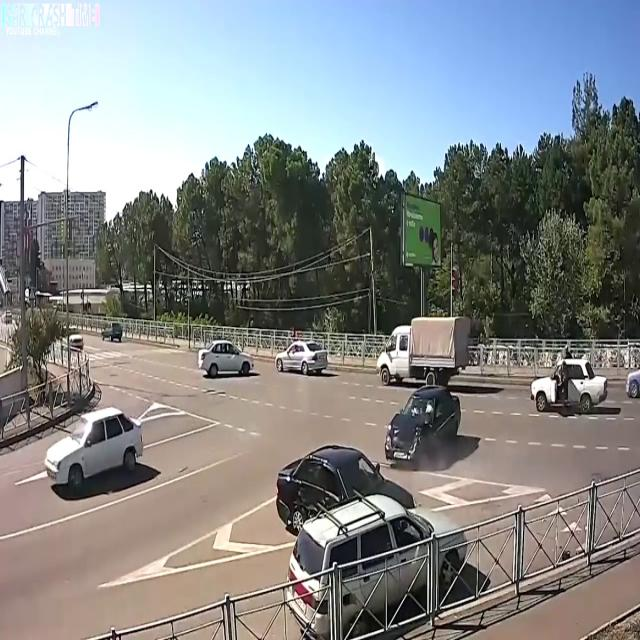Accident: (273, 358, 479, 542)
